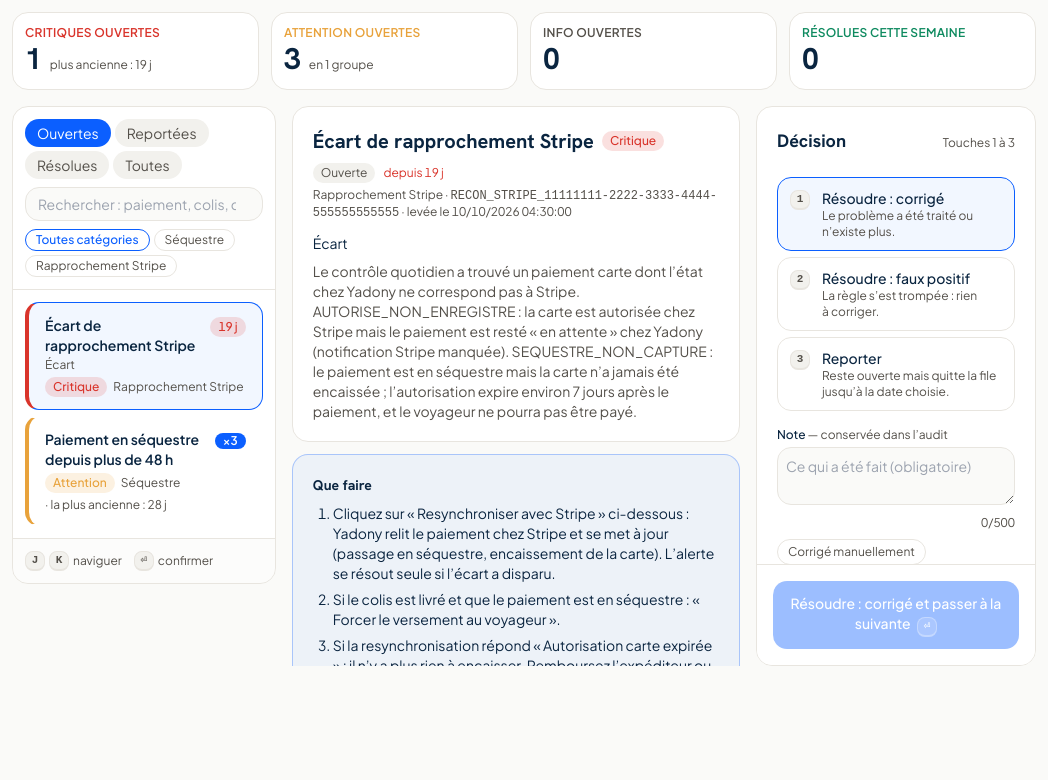
Test: pages/alertes › résout tout le groupe d’un coup avec une seule note
The width and height of the screenshot is (1048, 780).
// La critique passe en tête : on ouvre le groupe « séquestre ».
Click the button with test id "alert-group-toggle-Paiement en séquestre depuis plus de 48 h" at coordinates (144, 471), box x1=25 y1=416 x2=263 y2=526
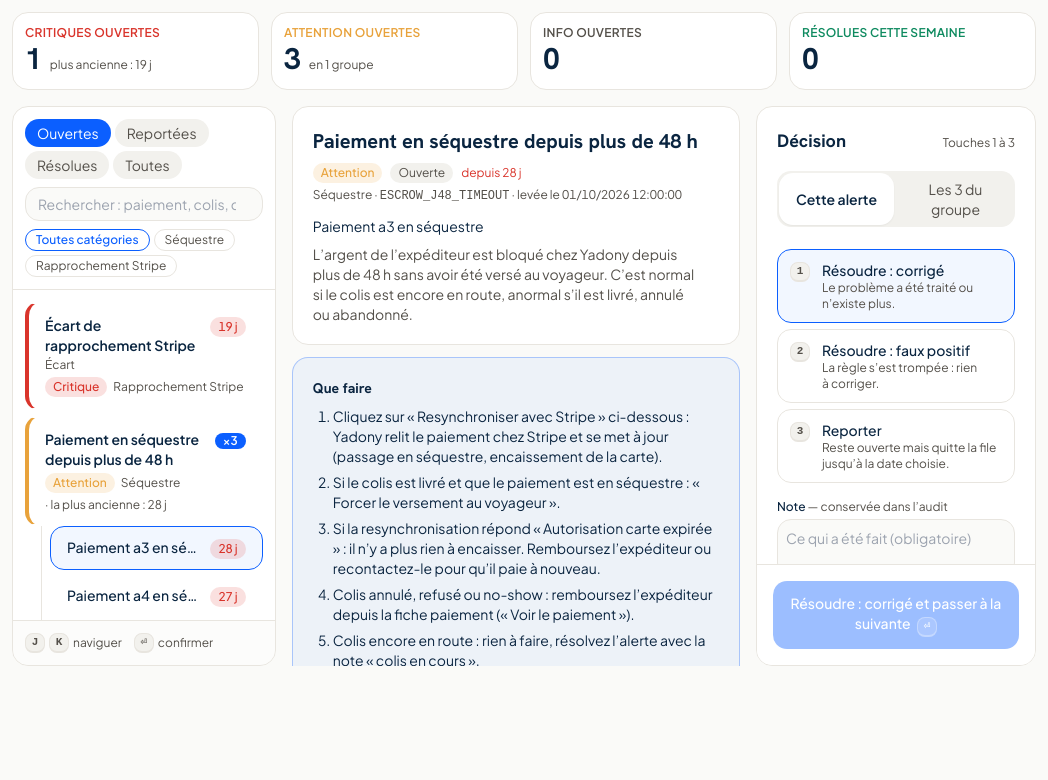
Click the button with test id "scope-group" at coordinates (956, 199), box x1=898 y1=173 x2=1013 y2=225
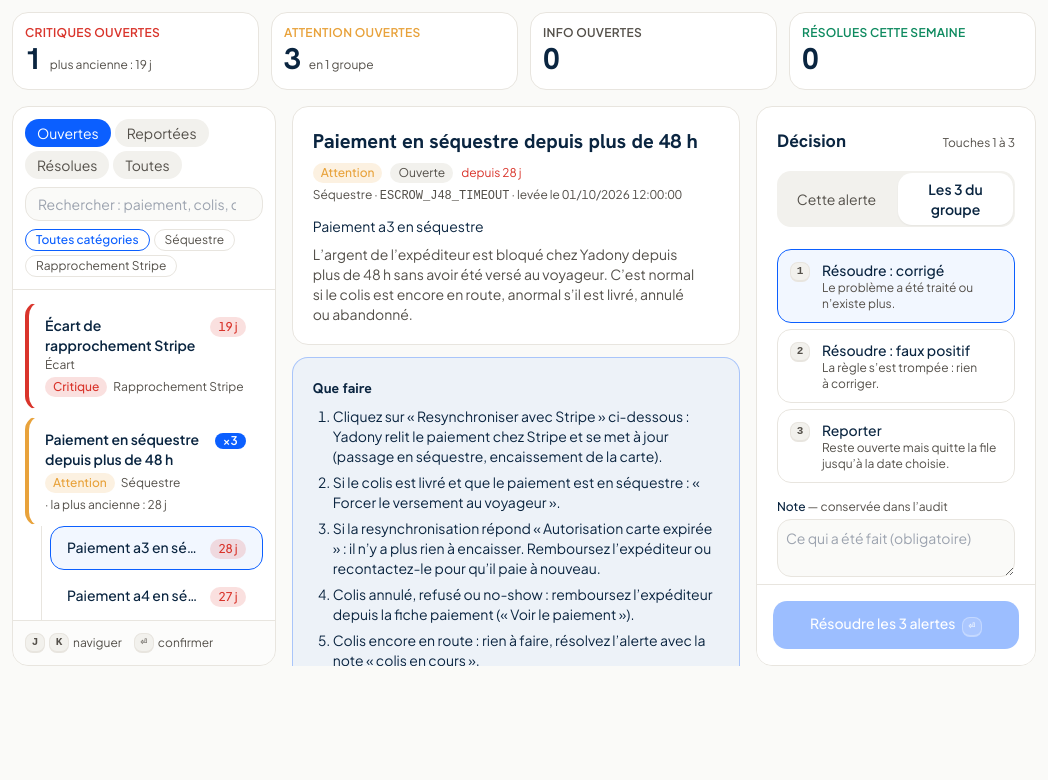
Type "Versement forcé" into the text box with test id "alert-note" at coordinates (896, 548), box x1=777 y1=519 x2=1015 y2=577
(page scrolled)
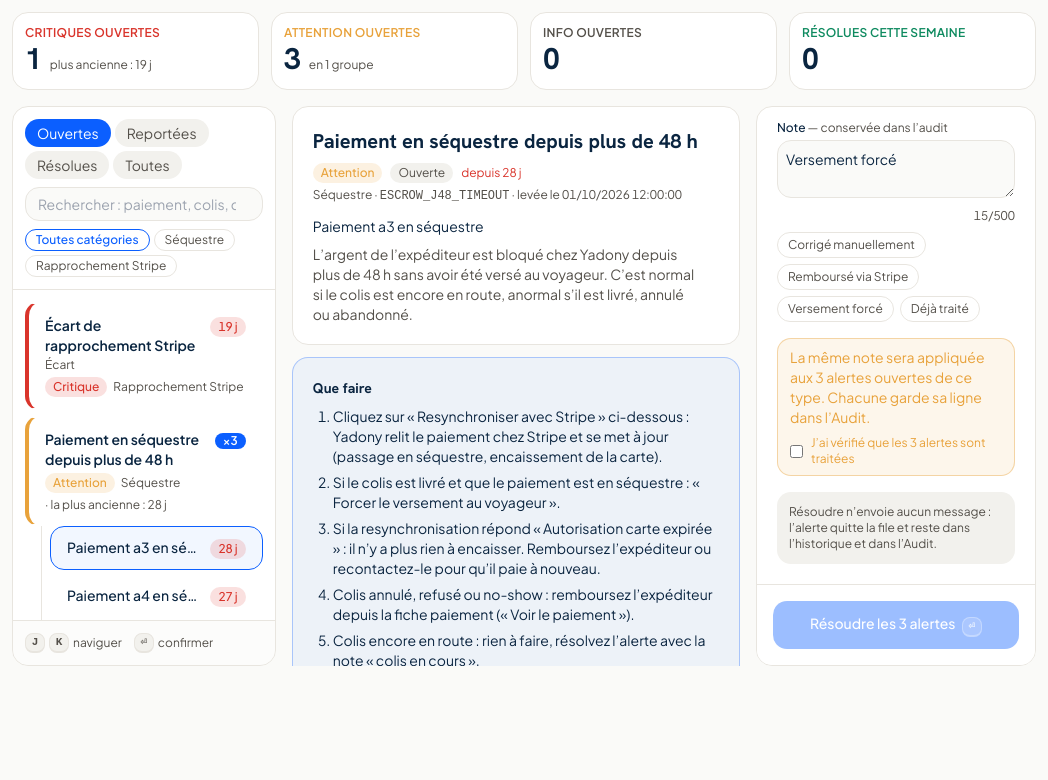
Click the checkbox with test id "alert-acknowledge" at coordinates (796, 451), box x1=790 y1=444 x2=803 y2=458
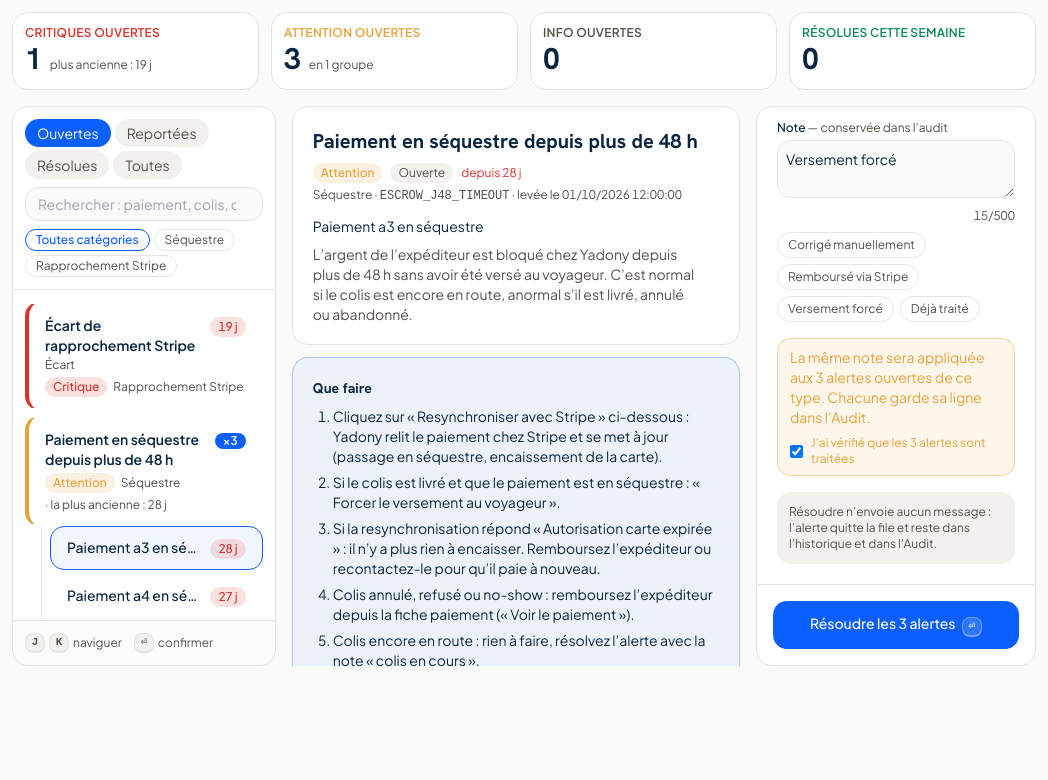
Click the button with test id "alert-confirm" at coordinates (896, 625), box x1=773 y1=601 x2=1019 y2=649
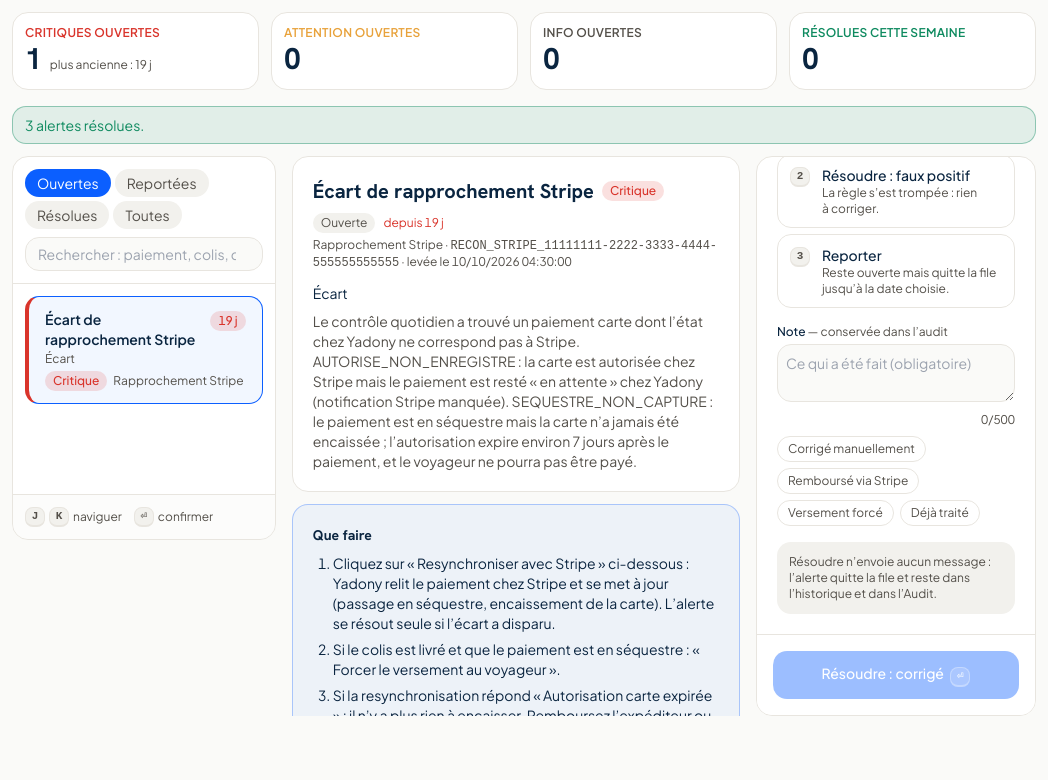
Result: the message with test id "alerts-done" reads "3 alertes résolues." at x1=25 y1=116 x2=144 y2=134
